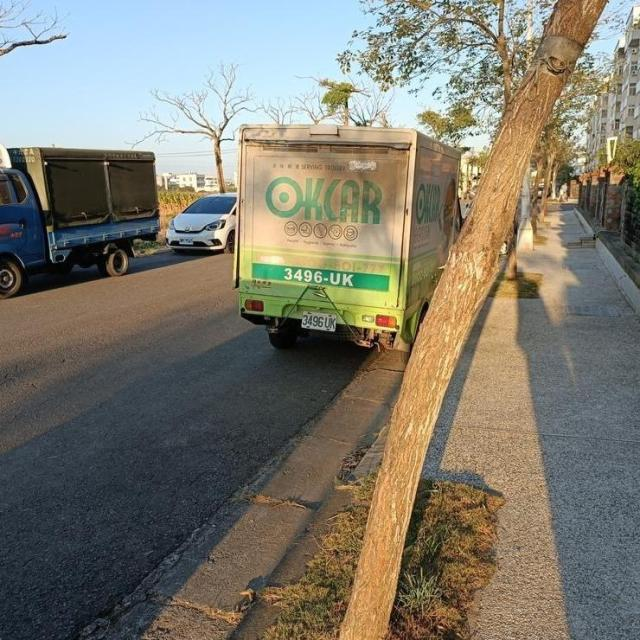W: (298, 307, 340, 333), (178, 234, 196, 245)
